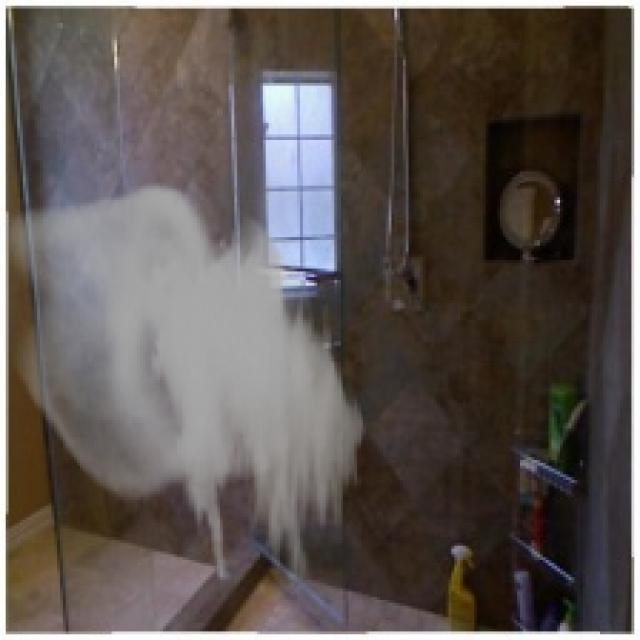smoke: (6, 183, 368, 583)
